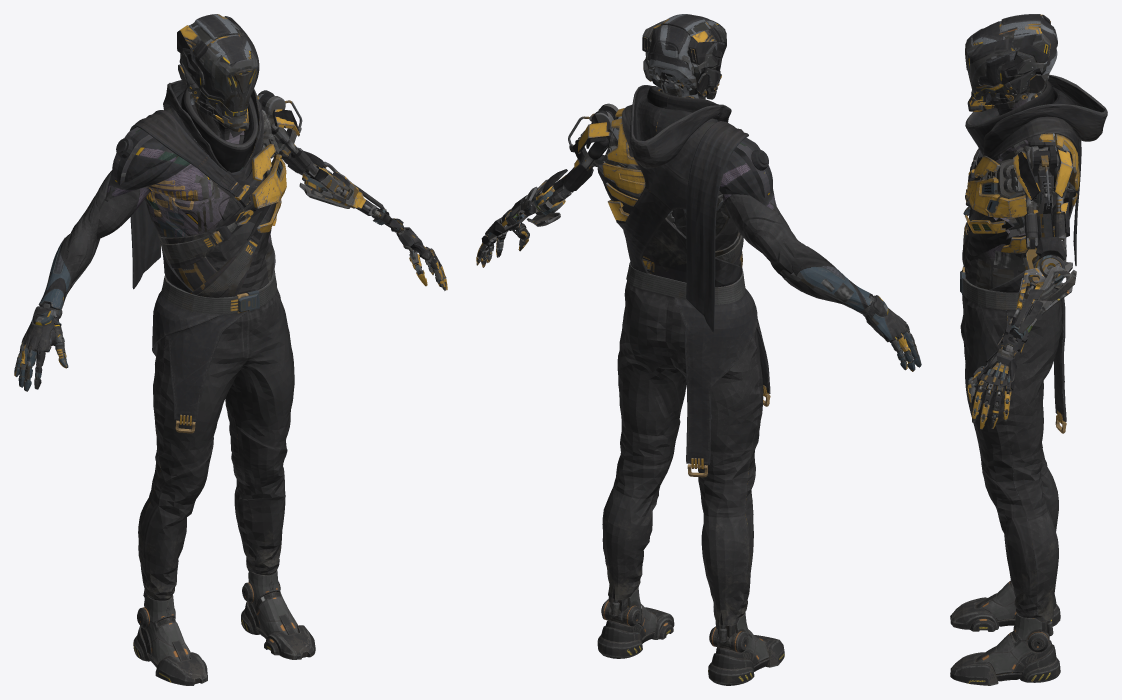
File: PlayerWithORM.fbx
3 views of the same model, side by side, from view 1: azimuth 30°, elevation 25°; view 2: azimuth 150°, elevation 25°; view 3: azimuth 270°, elevation 25° (orthographic). The views are drawn at different scales.
Parts seen in each view (by area): view 1: SK_Ghostrunner_01_NoHood.mo; view 2: SK_Ghostrunner_01_NoHood.mo; view 3: SK_Ghostrunner_01_NoHood.mo.
Boxes of the visible parts, x1,y1,x2,y2 form: SK_Ghostrunner_01_NoHood.mo: (14, 14, 447, 685); SK_Ghostrunner_01_NoHood.mo: (476, 14, 921, 685); SK_Ghostrunner_01_NoHood.mo: (950, 14, 1107, 685).
Bounding box in the file's own units: 137 × 194 × 43.9.
2 materials, 2 textured.
